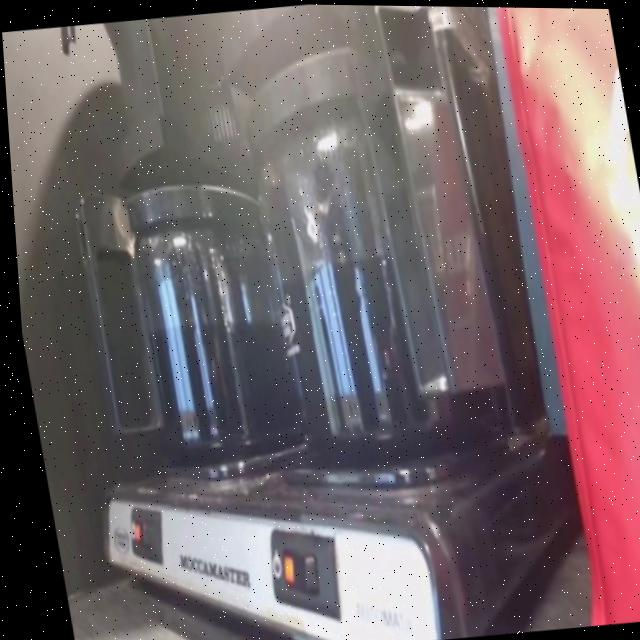coffee: (218, 24, 512, 493), (97, 151, 317, 491)
